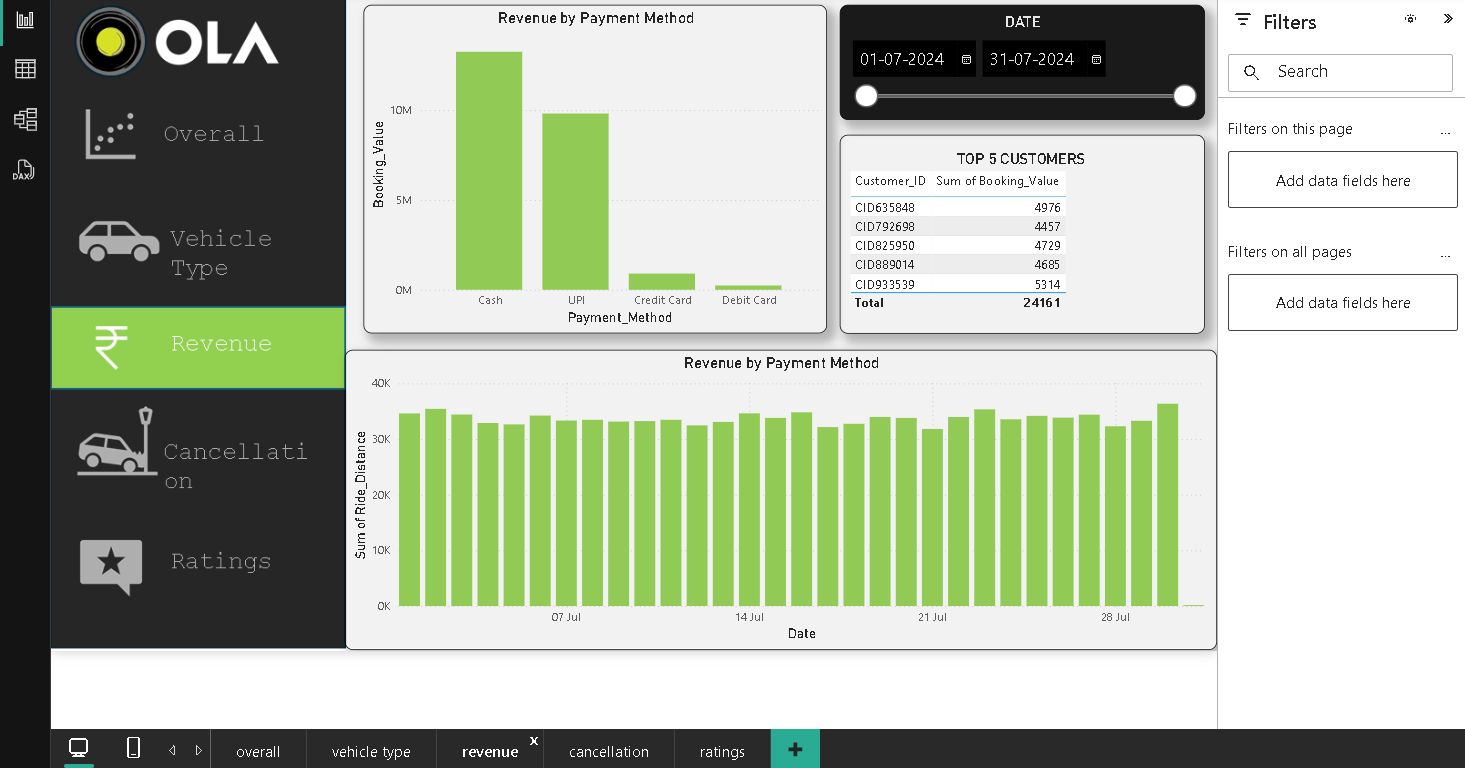

The page's visual inventory and layout, read from the dashboard file:
{"tool":"powerbi","page":{"name":"revenue","canvas":[1280,720],"ordinal":2},"visuals":[{"type":"actionButton","box":[0,231.9,322.7,88.3],"z":0},{"type":"actionButton","box":[1.2,343.6,322.7,88.3],"z":1000},{"type":"actionButton","box":[0,455.2,322.7,88.3],"z":2000},{"type":"actionButton","box":[0,579.1,322.7,88.3],"z":3000},{"type":"actionButton","box":[0,108,322.7,88.3],"z":4000},{"type":"clusteredColumnChart","title":"Revenue by Payment Method","fields":{"Category":["July.Payment_Method"],"Y":["Sum(July.Booking_Value)"]},"box":[343.1,9.6,509.1,360.9],"z":5000},{"type":"clusteredColumnChart","title":"Revenue by Payment Method","fields":{"Category":["July.Date"],"Y":["Sum(July.Ride_Distance)"]},"box":[322.5,388.3,957.8,329.3],"z":6000},{"type":"slicer","title":"DATE","fields":{"Values":["July.Date"]},"box":[865.9,9.6,400.7,126.2],"z":7000},{"type":"tableEx","title":"TOP 5 CUSTOMERS","fields":{"Values":["July.Customer_ID","Sum(July.Booking_Value)"]},"box":[865.9,152.3,400.7,218.2],"z":8000}]}

Visuals, with their boxes on the page's 1280x720 design canvas (x1, y1, x2, y2). These are canvas units, not pixel positions in the 1465x768 screenshot, which may show the page scaled, cropped or inside an application window:
actionButton: <region>0, 232, 323, 320</region>
actionButton: <region>1, 344, 324, 432</region>
actionButton: <region>0, 455, 323, 544</region>
actionButton: <region>0, 579, 323, 667</region>
actionButton: <region>0, 108, 323, 196</region>
"Revenue by Payment Method" clusteredColumnChart: <region>343, 10, 852, 370</region>
"Revenue by Payment Method" clusteredColumnChart: <region>322, 388, 1280, 718</region>
"DATE" slicer: <region>866, 10, 1267, 136</region>
"TOP 5 CUSTOMERS" tableEx: <region>866, 152, 1267, 370</region>
